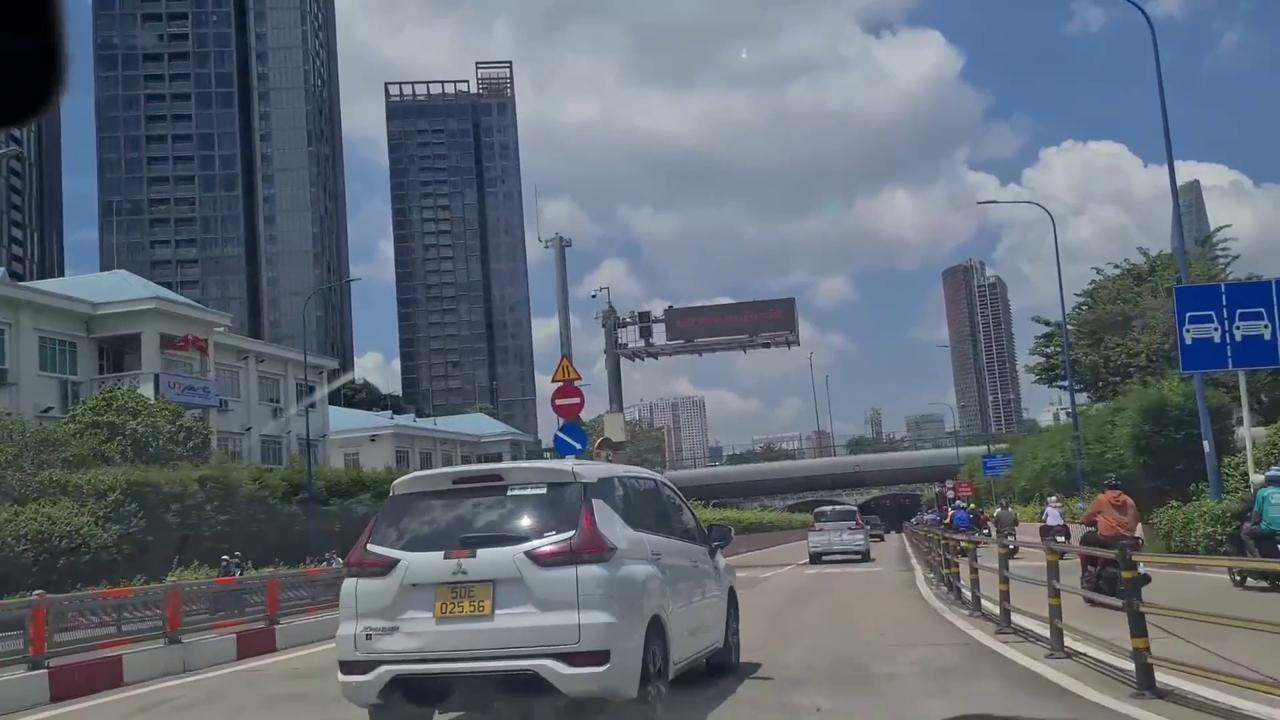Cấm đi ngược chiều: (550, 384, 586, 421)
Hướng phải đi vòng sang phải: (551, 422, 586, 457)
Đuờng hẹp: (550, 354, 586, 383)
